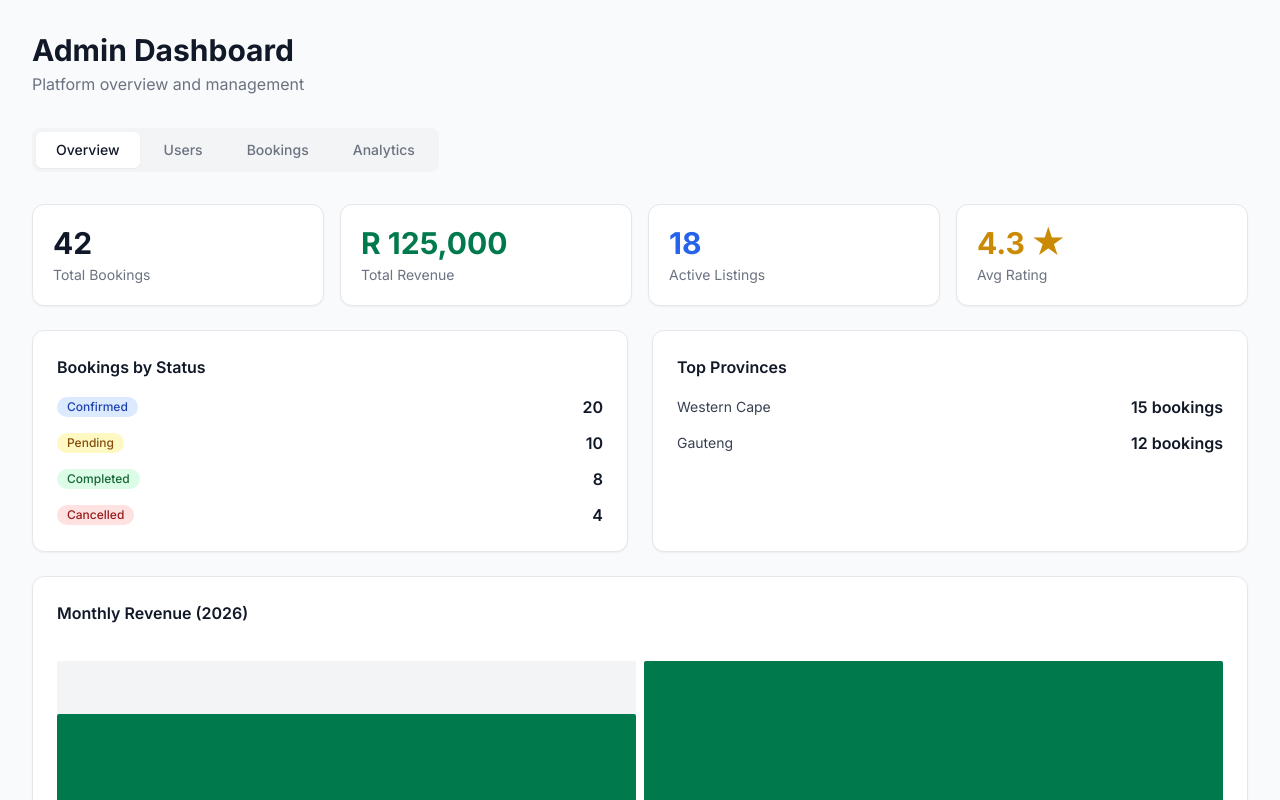
Scenario: AdminDashboardPage › should show no bookings message when list is empty
Expected: the heading "Admin Dashboard" is shown, x1=32 y1=32 x2=294 y2=68
Step 1. Click the button "bookings" → (278, 150), box x1=227 y1=132 x2=329 y2=168
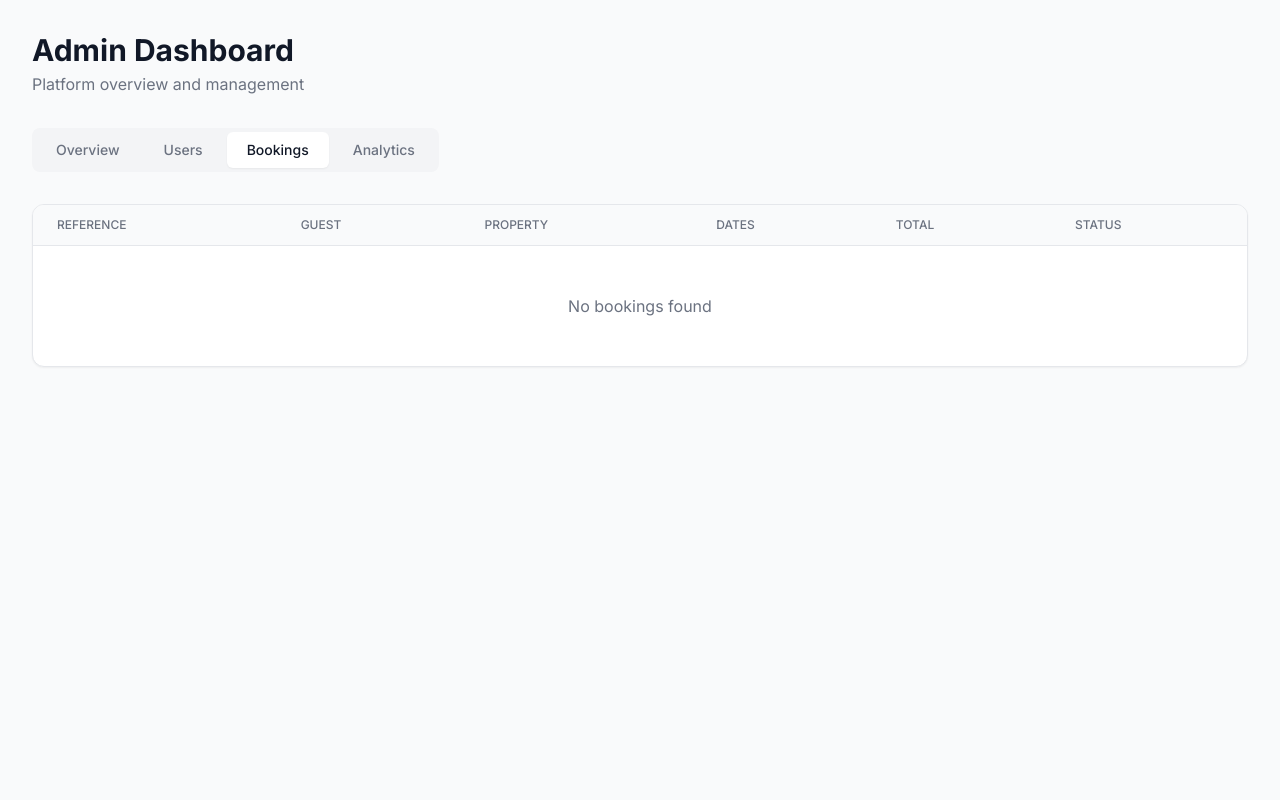
Expected: the text "No bookings found" is shown, x1=568 y1=296 x2=712 y2=316
